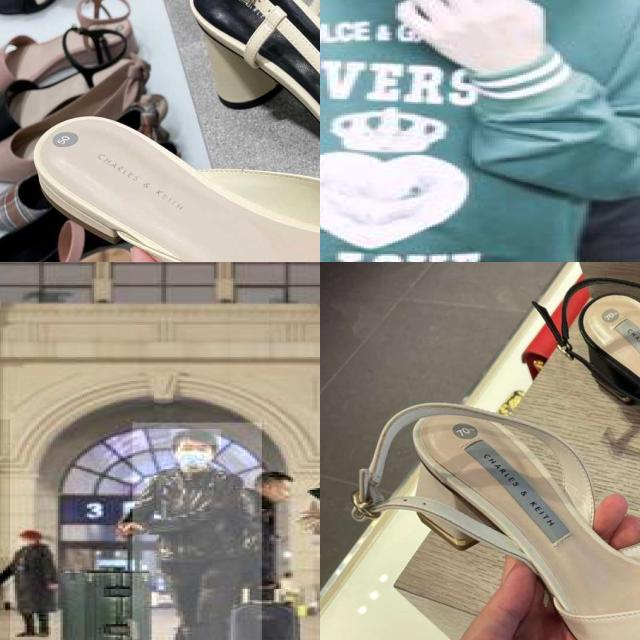Sandals: (338, 372, 640, 640), (16, 93, 320, 262), (140, 0, 320, 222), (513, 262, 640, 521)
face_mask: (176, 440, 212, 468)
face_nomask: (272, 483, 290, 502)
hand_noglove: (382, 0, 558, 75)
head_nohelmet: (171, 429, 221, 445)
person: (132, 422, 264, 640)
